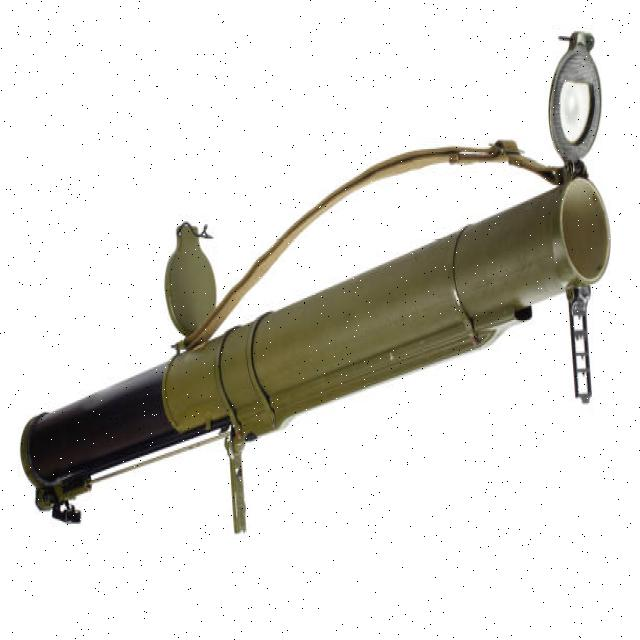bazooka: (11, 25, 619, 550)
